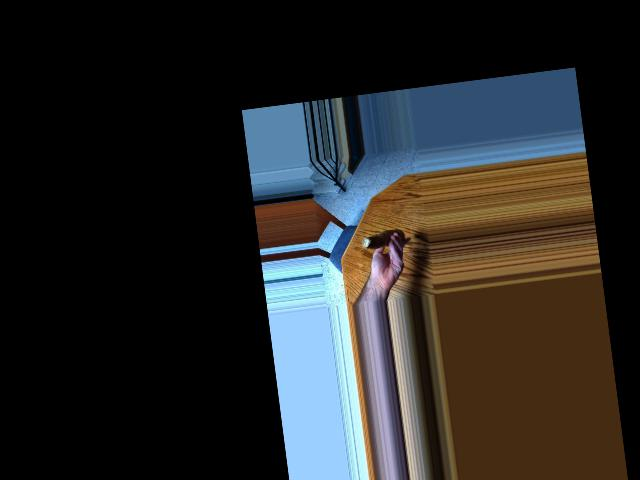sweet_potato: (361, 226, 401, 254)
